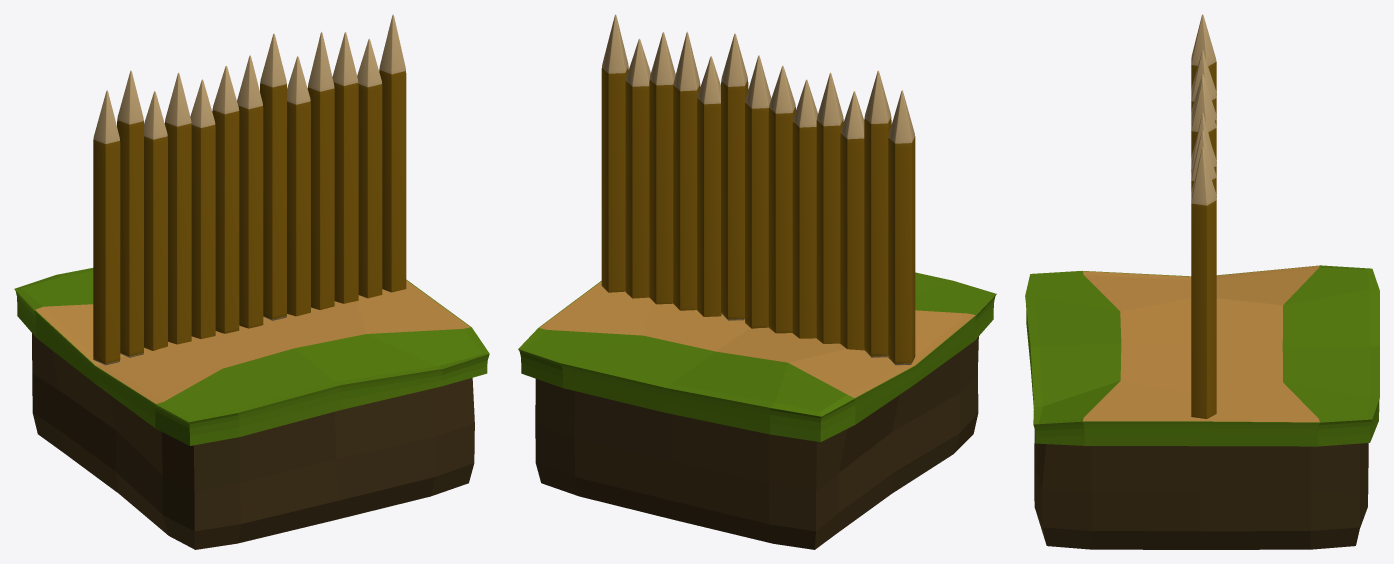
The model's file is WallTile_LongWood.fbx.
The picture shows the model from 3 angles, left to right: view 1: azimuth 30°, elevation 25°; view 2: azimuth 150°, elevation 25°; view 3: azimuth 270°, elevation 25°; orthographic projection. The views are drawn at different scales.
Visible parts, largest first — view 1: DefaultGreenTile.013, Cylinder; view 2: DefaultGreenTile.013, Cylinder; view 3: DefaultGreenTile.013, Cylinder.
Part boxes in pixels (bbox=[...]): DefaultGreenTile.013: bbox=[14, 268, 489, 549]; Cylinder: bbox=[93, 14, 406, 365]; DefaultGreenTile.013: bbox=[518, 272, 996, 549]; Cylinder: bbox=[601, 14, 915, 365]; DefaultGreenTile.013: bbox=[1025, 265, 1379, 549]; Cylinder: bbox=[1191, 14, 1216, 418].
Bounding box in the file's own units: 19.55 × 19.42 × 25.25.
